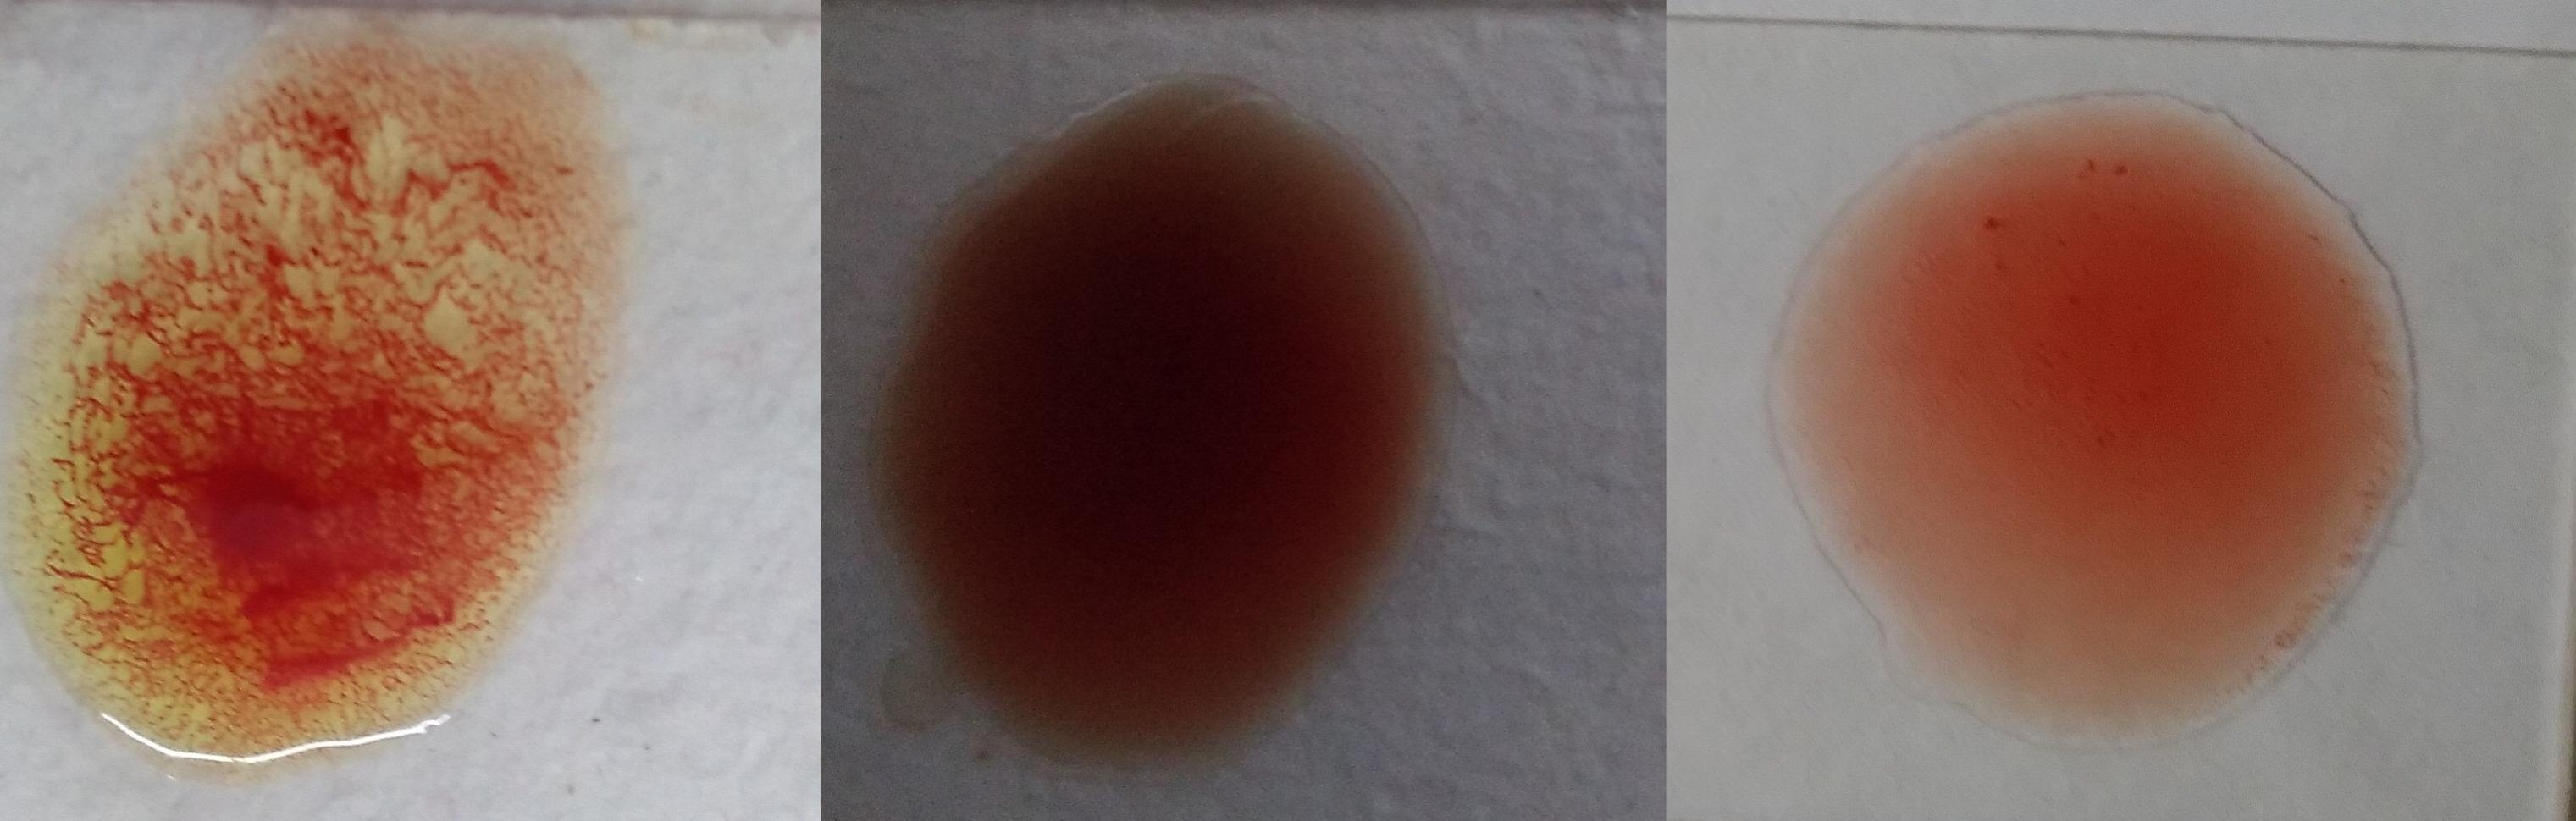B: (20, 39, 619, 780)
